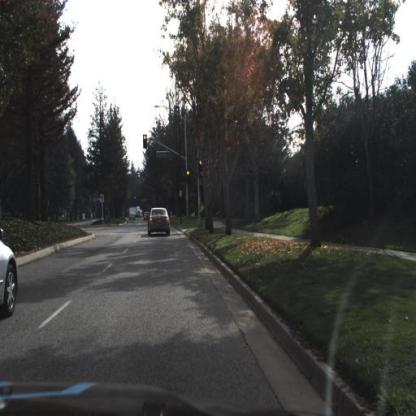car: (1, 226, 21, 323), (148, 205, 172, 238)
trafficLight-Red: (141, 134, 151, 154), (198, 154, 206, 175), (185, 169, 192, 186)
truck: (126, 206, 147, 219)
